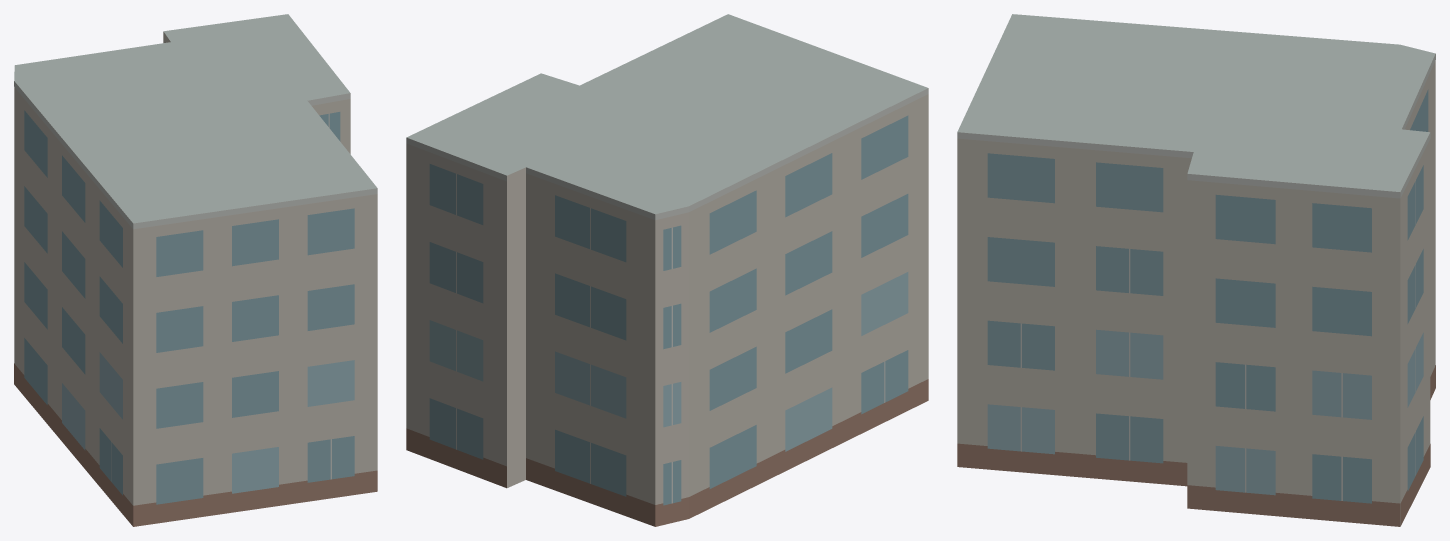
File: survey-upis-32679429.glb
The picture shows the model from 3 angles, left to right: view 1: azimuth 30°, elevation 25°; view 2: azimuth 150°, elevation 25°; view 3: azimuth 270°, elevation 25°; orthographic projection. The views are drawn at different scales.
Visible parts, largest first — view 1: survey-upis-32679429.tmp; view 2: survey-upis-32679429.tmp; view 3: survey-upis-32679429.tmp.
Part boxes in pixels (x1,y1,x2,y2): survey-upis-32679429.tmp: [14, 14, 377, 526]; survey-upis-32679429.tmp: [406, 14, 928, 526]; survey-upis-32679429.tmp: [957, 14, 1435, 526].
Bounding box in the file's own units: 14.62 × 12.8 × 16.6.
